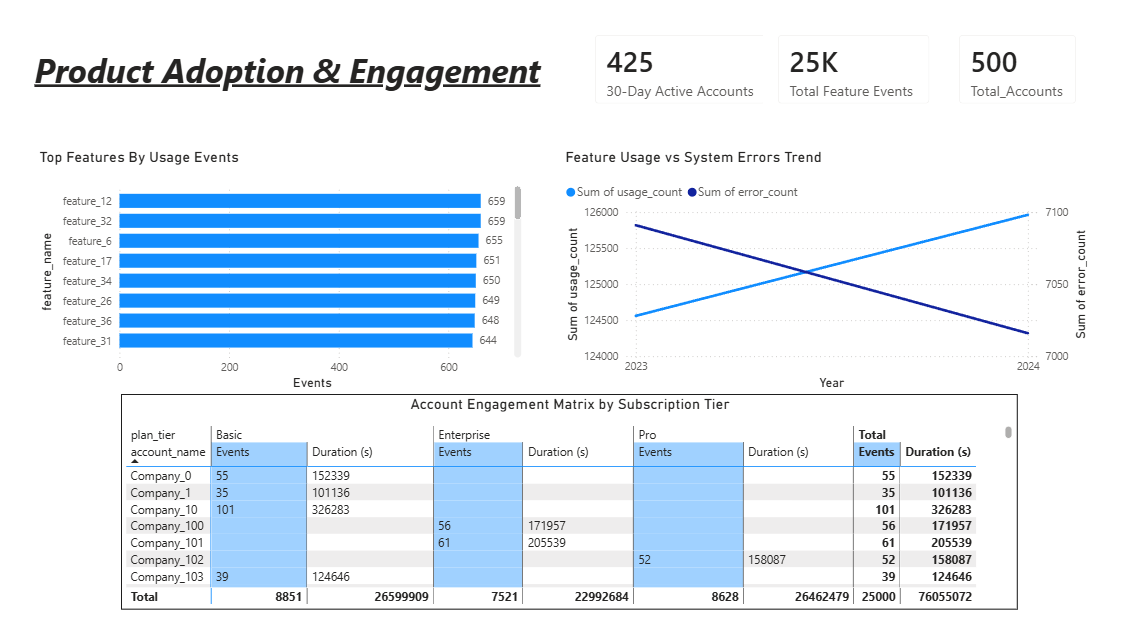

This screenshot's page, from the dashboard's own definition file:
{"tool":"powerbi","page":{"name":"Product Adoption & Engagement","canvas":[1280,720],"ordinal":1},"visuals":[{"type":"cardVisual","fields":{"Data":["_Measures.Active_Users_30D"]},"box":[661.2,23.8,228.8,112.5],"z":0},{"type":"cardVisual","fields":{"Data":["_Measures.Feature_Events_Count"]},"box":[868.8,23.8,206.2,112.5],"z":1000},{"type":"cardVisual","fields":{"Data":["_Measures.Total_Accounts"]},"box":[1075,23.8,167.5,112.5],"z":2000},{"type":"clusteredBarChart","title":"Top Features By Usage Events","fields":{"Category":["ravenstack_feature_usage.feature_name"],"Y":["_Measures.Feature_Events_Count"]},"box":[42.5,168.8,557.5,280],"z":3000},{"type":"lineChart","title":"Feature Usage vs System Errors Trend","fields":{"Category":["Dim_Date.Date.Variation.Date Hierarchy.Year","Dim_Date.Date.Variation.Date Hierarchy.Quarter","Dim_Date.Date.Variation.Date Hierarchy.Month","Dim_Date.Date.Variation.Date Hierarchy.Day"],"Y":["Sum(ravenstack_feature_usage.usage_count)"],"Y2":["Sum(ravenstack_feature_usage.error_count)"]},"box":[640,168.8,602.5,280],"z":4000},{"type":"pivotTable","title":"Account Engagement Matrix by Subscription Tier","fields":{"Rows":["ravenstack_accounts.account_name"],"Values":["_Measures.Feature_Events_Count","Sum(ravenstack_feature_usage.usage_duration_secs)"],"Columns":["ravenstack_accounts.plan_tier"]},"box":[140,448.8,1018.8,245],"z":5000},{"type":"textbox","box":[36.2,50,603.8,86.2],"z":6000}]}

Visuals, with their boxes in screenshot pixels (x1, y1, x2, y2), scaled from the page's 1280x720 canvas onto the 1123x631 screenshot:
cardVisual - _Measures.Active_Users_30D: x1=580, y1=21, x2=781, y2=119
cardVisual - _Measures.Feature_Events_Count: x1=762, y1=21, x2=943, y2=119
cardVisual - _Measures.Total_Accounts: x1=943, y1=21, x2=1090, y2=119
"Top Features By Usage Events" clusteredBarChart: x1=37, y1=148, x2=526, y2=393
"Feature Usage vs System Errors Trend" lineChart: x1=562, y1=148, x2=1090, y2=393
"Account Engagement Matrix by Subscription Tier" pivotTable: x1=123, y1=393, x2=1017, y2=608
textbox: x1=32, y1=44, x2=562, y2=119
